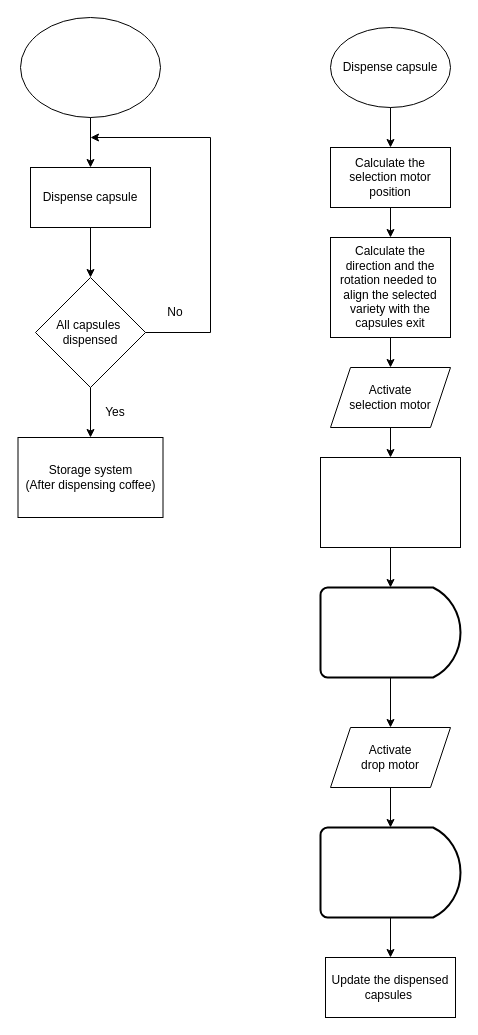
Image size: 478x1035. Some labels were removed from this diagram. Each missing label, with the centre of its shape:
Calculate the expected time to move the section selected with the capsules exit: the point at 390,502
Capsules dispensing system (wich and how many): the point at 90,67
Wait for the drop motor to return to its initial position (previosly known): the point at 390,872
Wait for the selected section to be aligned with the capsules exit: the point at 390,632
